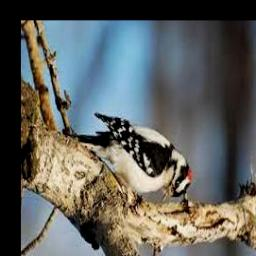Woodpecker: (62, 114, 191, 204)
